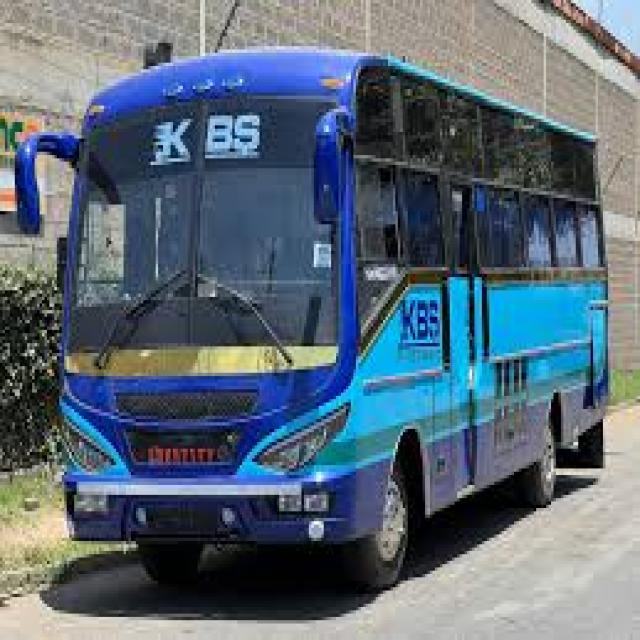bus: (1, 12, 640, 629)
